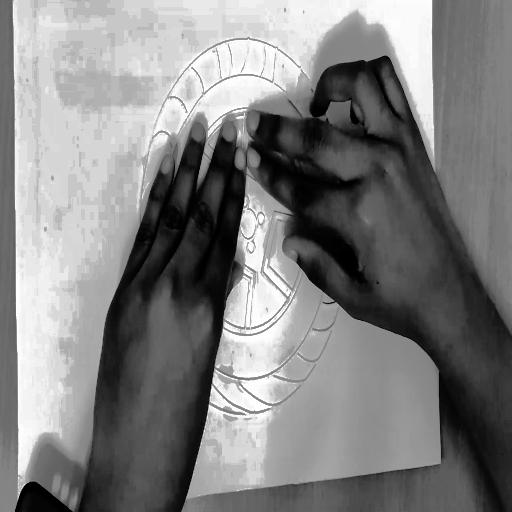bottom_right: (437, 455, 444, 469)
tire: (122, 23, 377, 438)
